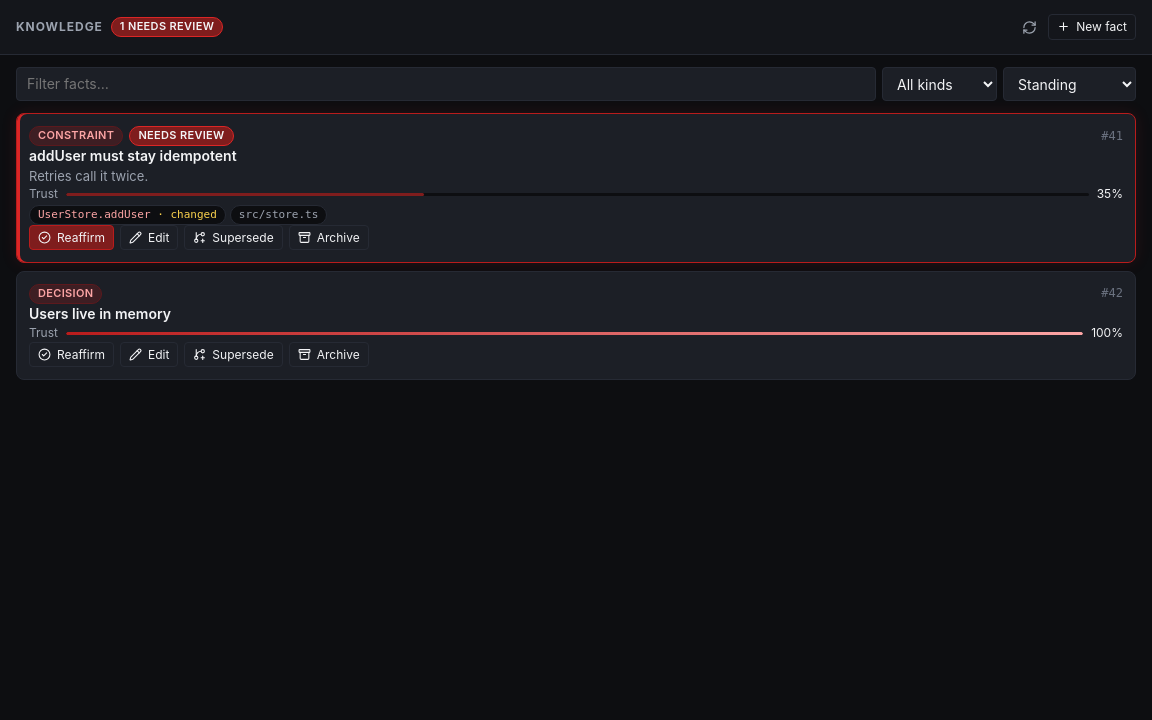
it: KnowledgeBoard › cancels an edit without saving it
Click the button "Edit" below "Users live in memory": (149, 354) [120,342,178,367]
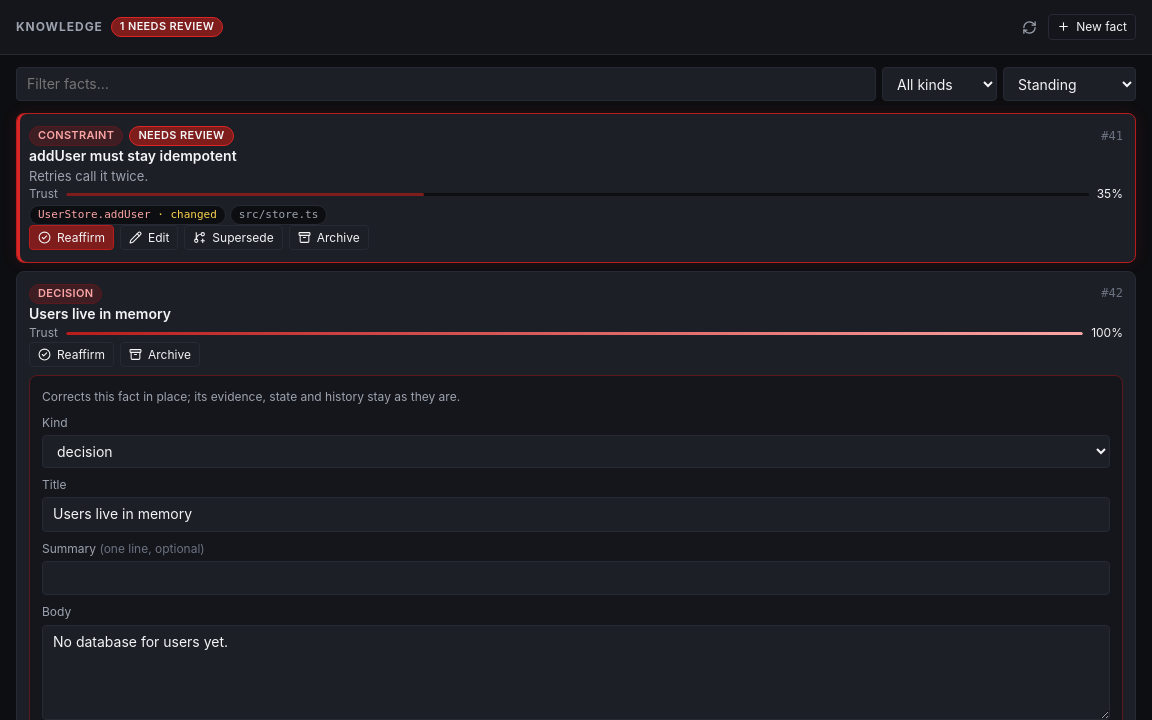
Replace the text in the field labelled "Title" with "Discard me": (576, 514) [42,497,1110,532]
(page scrolled)
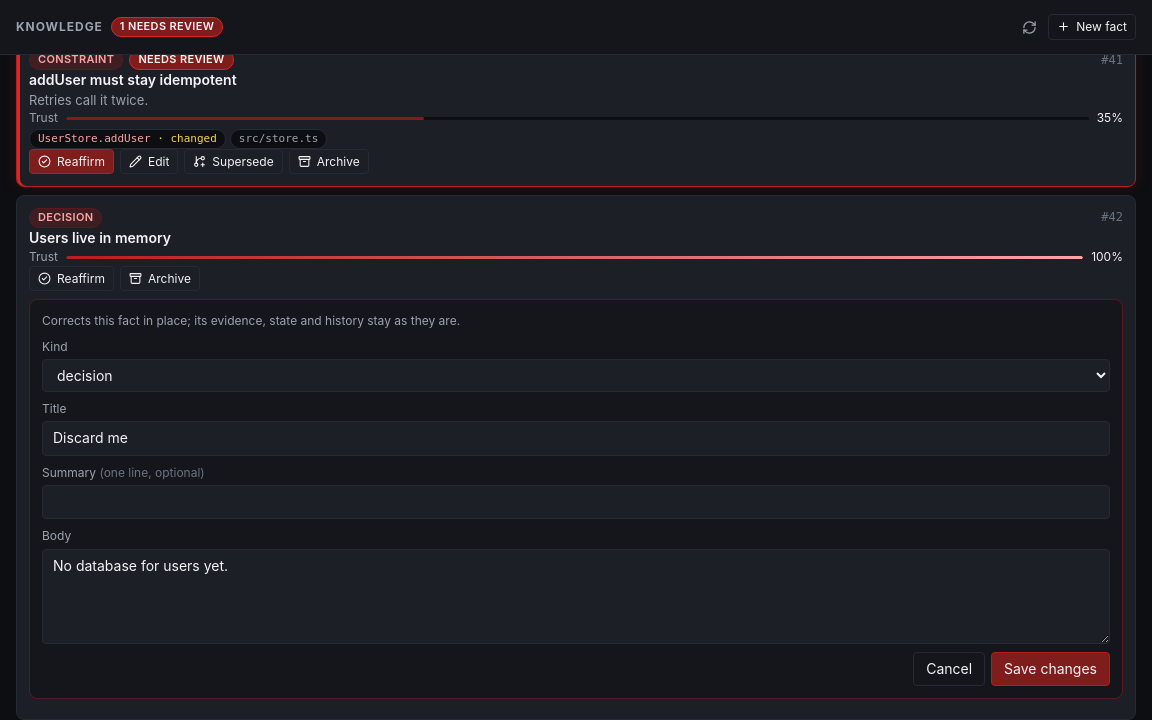
Click the button "Cancel": (949, 669) [913,652,985,686]
(page scrolled)
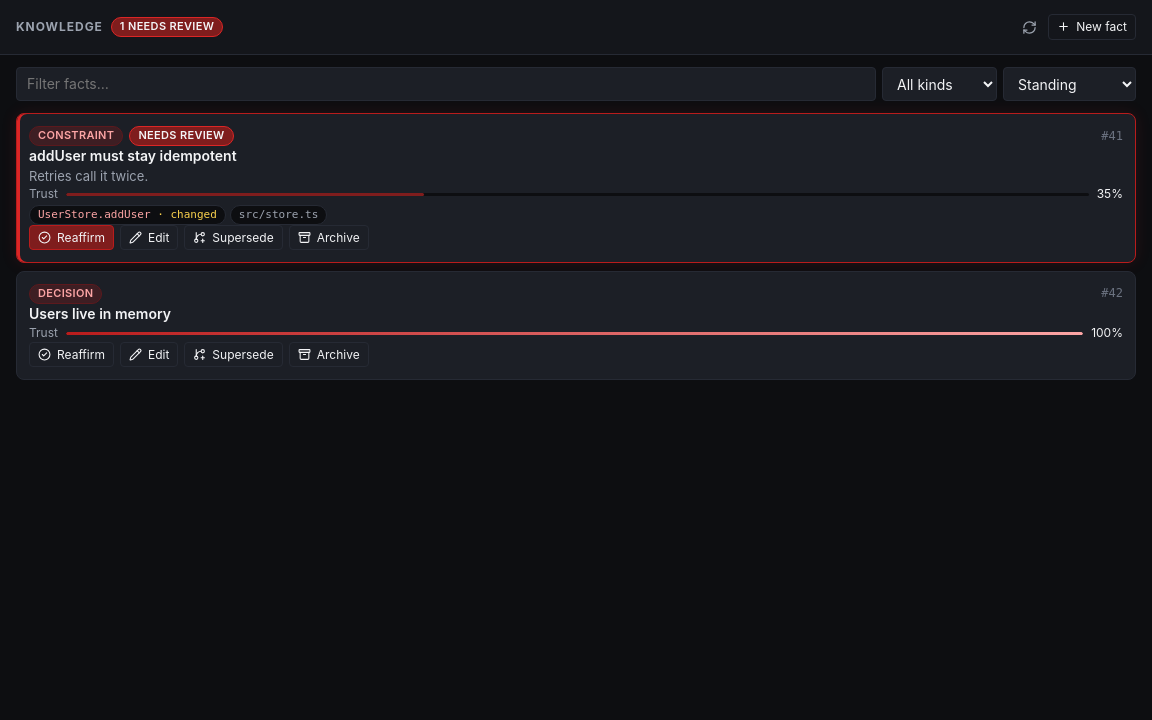
Expected: the heading "Users live in memory" is shown, [29,305,171,322]
Result: the form is gone
Click the button "Edit" below "Users live in memory": (149, 354) [120,342,178,367]
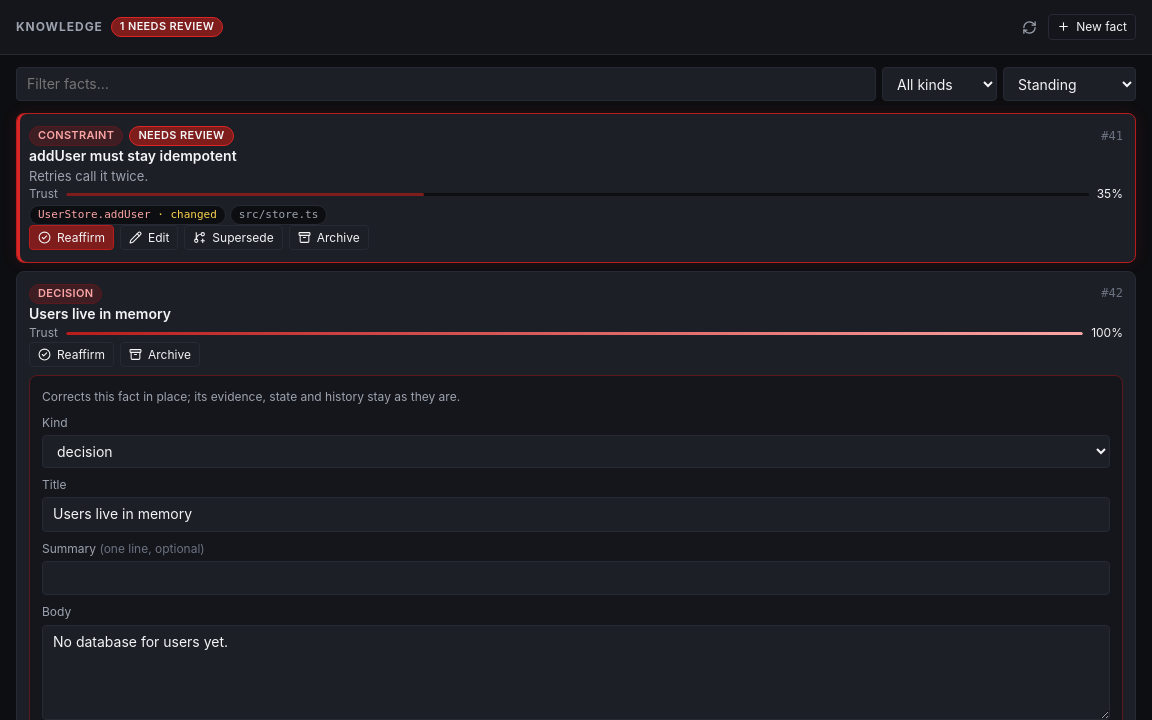
Result: the field labelled "Title" holds "Users live in memory" at [42,497,1110,532]
